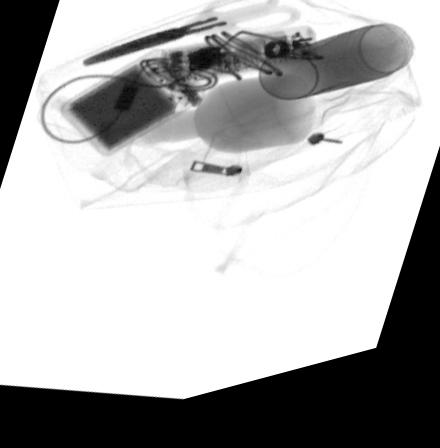Powerbank: (57, 57, 206, 161)
Scissors: (81, 4, 303, 75)
